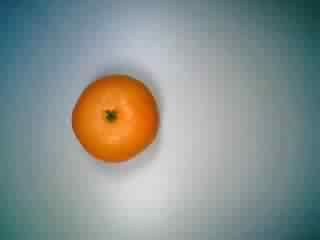orange: (65, 66, 164, 165)
